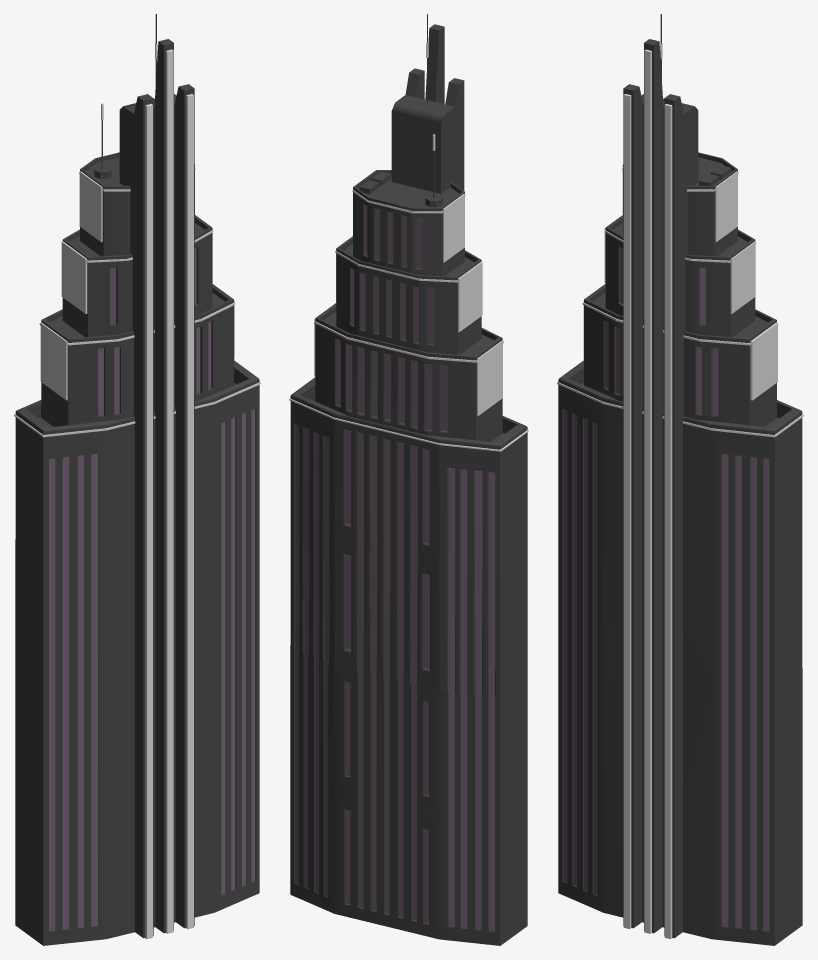
Rendered from SM8 Ful bevel.fbx.
3 renders of one model, left to right at view 1: azimuth 30°, elevation 25°; view 2: azimuth 150°, elevation 25°; view 3: azimuth 330°, elevation 25°, orthographic. The views are drawn at different scales.
Parts seen in each view (by area): view 1: pasted__pCube134; view 2: pasted__pCube134; view 3: pasted__pCube134.
Boxes of the visible parts, <box> form: pasted__pCube134: <box>14,14,260,945</box>; pasted__pCube134: <box>289,14,528,945</box>; pasted__pCube134: <box>557,14,803,945</box>.
Bounding box in the file's own units: 35.33 × 141 × 15.82.
